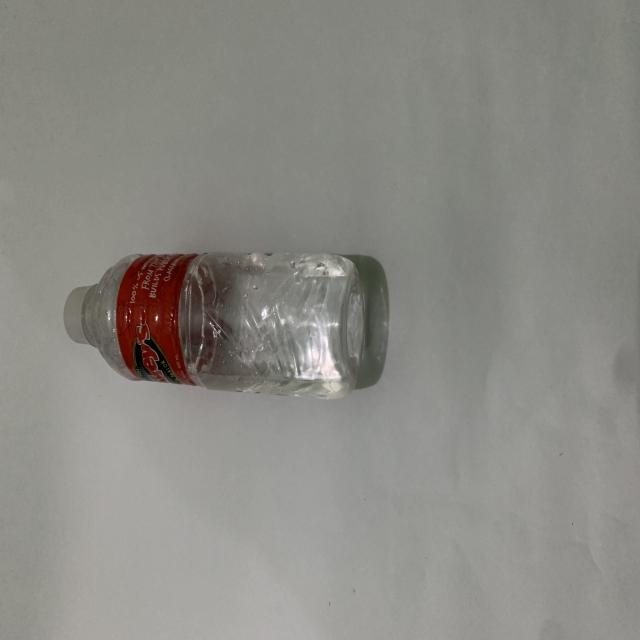bottle: (58, 245, 408, 406)
